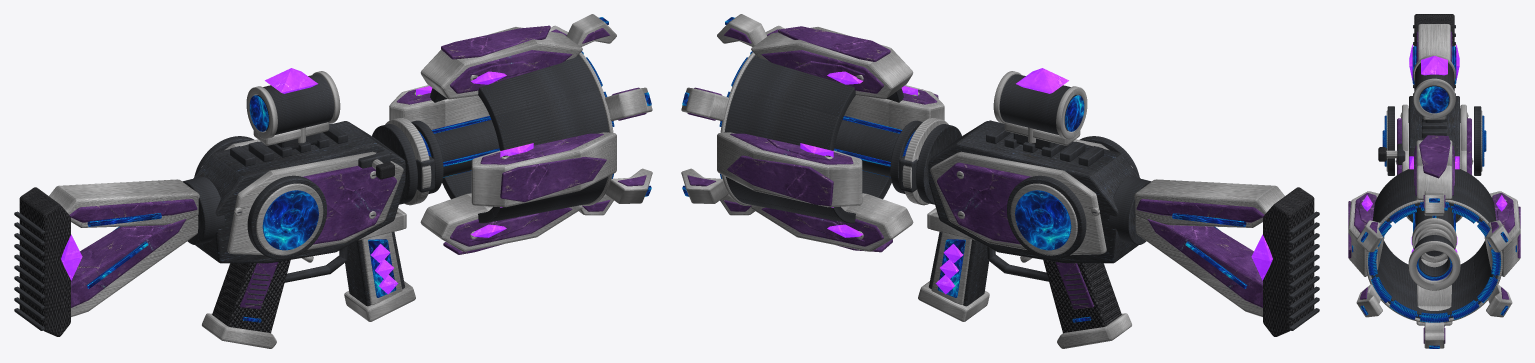
The model's file is prism-grenade.glb.
3 views of the same model, side by side, from view 1: azimuth 30°, elevation 25°; view 2: azimuth 150°, elevation 25°; view 3: azimuth 270°, elevation 25° (orthographic). The views are drawn at different scales.
Parts seen in each view (by area): view 1: Runtime_PRISM_ROOT_03, Runtime_PRISM_ROOT_04, Runtime_PRISM_ROOT_01, Runtime_PRISM_ROOT_05, Runtime_Grenade_chamber_sector_02_03, Runtime_Armour_petal_03_01, Runtime_Grenade_chamber_sector_01_03, Runtime_Armour_petal_03_04, Runtime_Armour_petal_00_01, Runtime_PRISM_ROOT_06, Runtime_Armour_petal_00_04, Runtime_Front receiver coupling_03 (+24 smaller); view 2: Runtime_PRISM_ROOT_03, Runtime_PRISM_ROOT_04, Runtime_PRISM_ROOT_01, Runtime_PRISM_ROOT_05, Runtime_Grenade_chamber_sector_10_03, Runtime_Armour_petal_01_01, Runtime_Grenade_chamber_sector_11_03, Runtime_Armour_petal_01_04, Runtime_Armour_petal_00_01, Runtime_PRISM_ROOT_06, Runtime_Armour_petal_00_04, Runtime_Front receiver coupling_03 (+24 smaller); view 3: Runtime_PRISM_ROOT_03, Runtime_PRISM_ROOT_04, Runtime_Muzzle_carrier_04, Runtime_Armour_petal_00_01, Runtime_Armour_petal_00_04, Runtime_Optic_lift_04, Runtime_Grenade_chamber_sector_05_03, Runtime_Grenade_chamber_sector_07_03, Runtime_Armour_petal_02_04, Runtime_Armour_petal_01_04, Runtime_Armour_petal_03_04, Runtime_Grenade_chamber_sector_01_03 (+39 smaller).
Boxes of the visible parts, x1,y1,x2,y2 form: Runtime_PRISM_ROOT_03: (14, 121, 405, 330); Runtime_PRISM_ROOT_04: (49, 127, 406, 348); Runtime_PRISM_ROOT_01: (69, 166, 396, 309); Runtime_PRISM_ROOT_05: (19, 187, 290, 336); Runtime_Grenade_chamber_sector_02_03: (491, 89, 608, 150); Runtime_Armour_petal_03_01: (480, 133, 606, 201); Runtime_Grenade_chamber_sector_01_03: (478, 56, 597, 119); Runtime_Armour_petal_03_04: (471, 132, 616, 207); Runtime_Armour_petal_00_01: (441, 25, 572, 93); Runtime_PRISM_ROOT_06: (86, 190, 318, 322); Runtime_Armour_petal_00_04: (420, 27, 582, 99); Runtime_Front receiver coupling_03: (372, 120, 443, 204); Runtime_PRISM_ROOT_03: (928, 121, 1319, 330); Runtime_PRISM_ROOT_04: (927, 127, 1284, 348); Runtime_PRISM_ROOT_01: (937, 162, 1264, 309); Runtime_PRISM_ROOT_05: (1043, 187, 1314, 336); Runtime_Grenade_chamber_sector_10_03: (725, 89, 842, 150); Runtime_Armour_petal_01_01: (727, 133, 853, 206); Runtime_Grenade_chamber_sector_11_03: (736, 56, 855, 119); Runtime_Armour_petal_01_04: (717, 132, 862, 207); Runtime_Armour_petal_00_01: (761, 26, 890, 93); Runtime_PRISM_ROOT_06: (1015, 190, 1247, 322); Runtime_Armour_petal_00_04: (751, 27, 913, 99); Runtime_Front receiver coupling_03: (890, 120, 961, 204); Runtime_PRISM_ROOT_03: (1387, 25, 1481, 175); Runtime_PRISM_ROOT_04: (1386, 24, 1482, 171); Runtime_Muzzle_carrier_04: (1408, 241, 1460, 290); Runtime_Armour_petal_00_01: (1415, 135, 1453, 196); Runtime_Armour_petal_00_04: (1416, 140, 1452, 199); Runtime_Optic_lift_04: (1413, 54, 1455, 119); Runtime_Grenade_chamber_sector_05_03: (1388, 256, 1418, 317); Runtime_Grenade_chamber_sector_07_03: (1450, 256, 1480, 317); Runtime_Armour_petal_02_04: (1416, 258, 1452, 325); Runtime_Armour_petal_01_04: (1484, 191, 1520, 276); Runtime_Armour_petal_03_04: (1348, 191, 1384, 276); Runtime_Grenade_chamber_sector_01_03: (1387, 169, 1418, 221).
Bounding box in the file's own units: 5.99 × 2.61 × 1.93.
8 materials, 8 textured.
